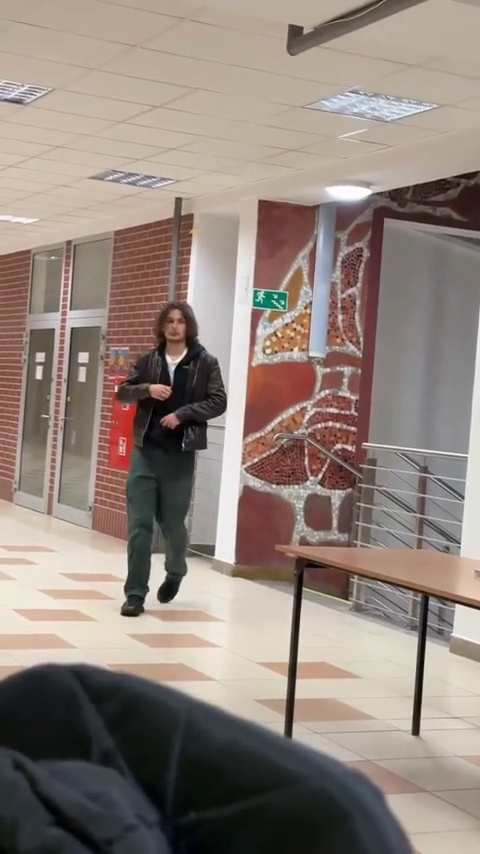no vest: (122, 300, 228, 618)
